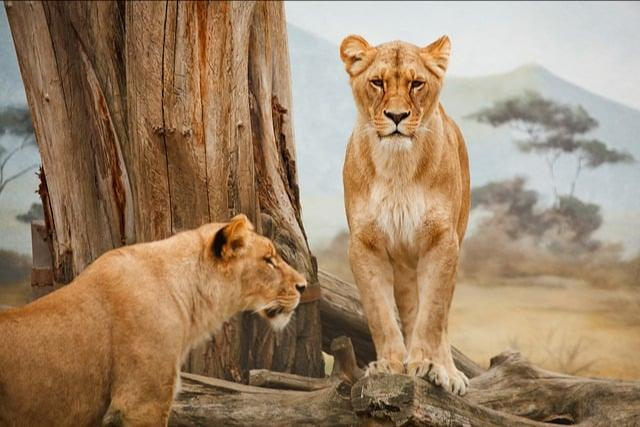Non_Gorille: (304, 5, 532, 427), (9, 204, 286, 417)
